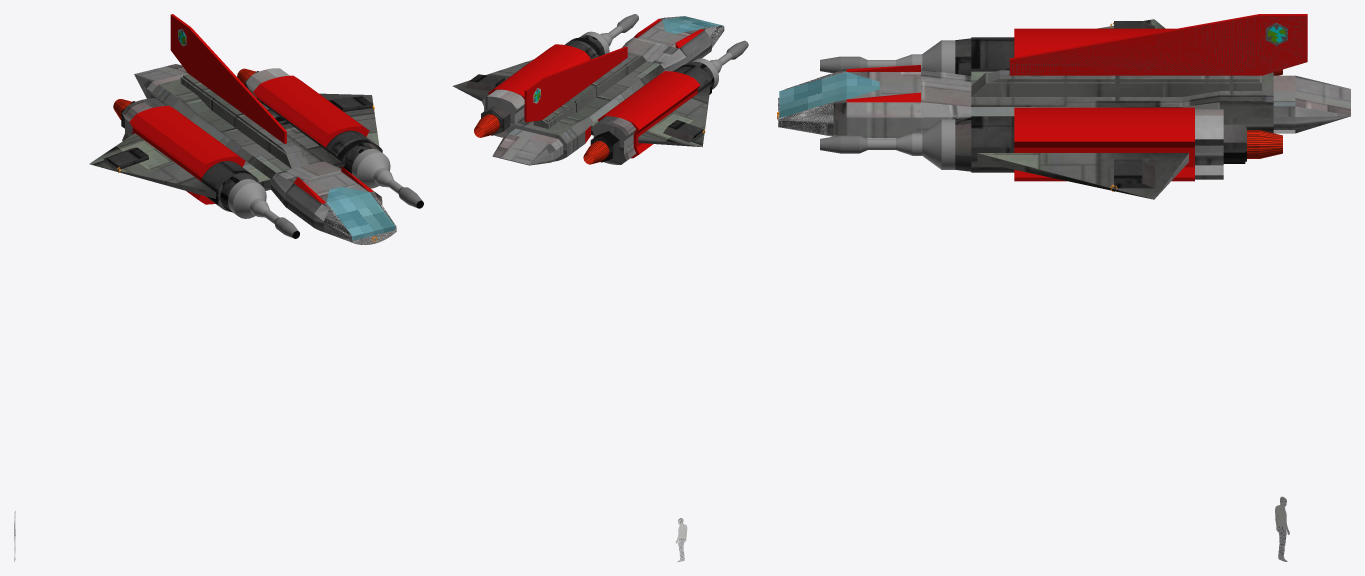
The model's file is Custom+Spaceship+-+Single+Man.obj.
3 renders of one model, left to right at view 1: azimuth 30°, elevation 25°; view 2: azimuth 150°, elevation 25°; view 3: azimuth 270°, elevation 25°, orthographic. The views are drawn at different scales.
Visible parts, largest first — view 1: group_1, group_1_ID296, group_6_ID463; view 2: group_1, group_1_ID296, group_6_ID463, group_4_ID463, group_9_ID509, group_11_ID509; view 3: group_1, group_1_ID296, group_4_ID463, group_11_ID509.
Boxes of the visible parts, <box> form: group_1: <box>89,14,423,244</box>; group_1_ID296: <box>326,187,395,240</box>; group_6_ID463: <box>103,147,148,169</box>; group_1: <box>452,14,748,165</box>; group_1_ID296: <box>662,16,722,33</box>; group_6_ID463: <box>663,120,703,142</box>; group_4_ID463: <box>465,74,505,91</box>; group_9_ID509: <box>583,141,609,164</box>; group_11_ID509: <box>474,114,499,137</box>; group_1: <box>778,14,1350,199</box>; group_1_ID296: <box>779,72,879,117</box>; group_4_ID463: <box>1114,159,1155,188</box>; group_11_ID509: <box>1247,130,1282,158</box>.
Bounding box in the file's own units: 11.65 × 17.81 × 14.2.
23 materials, 5 textured.
